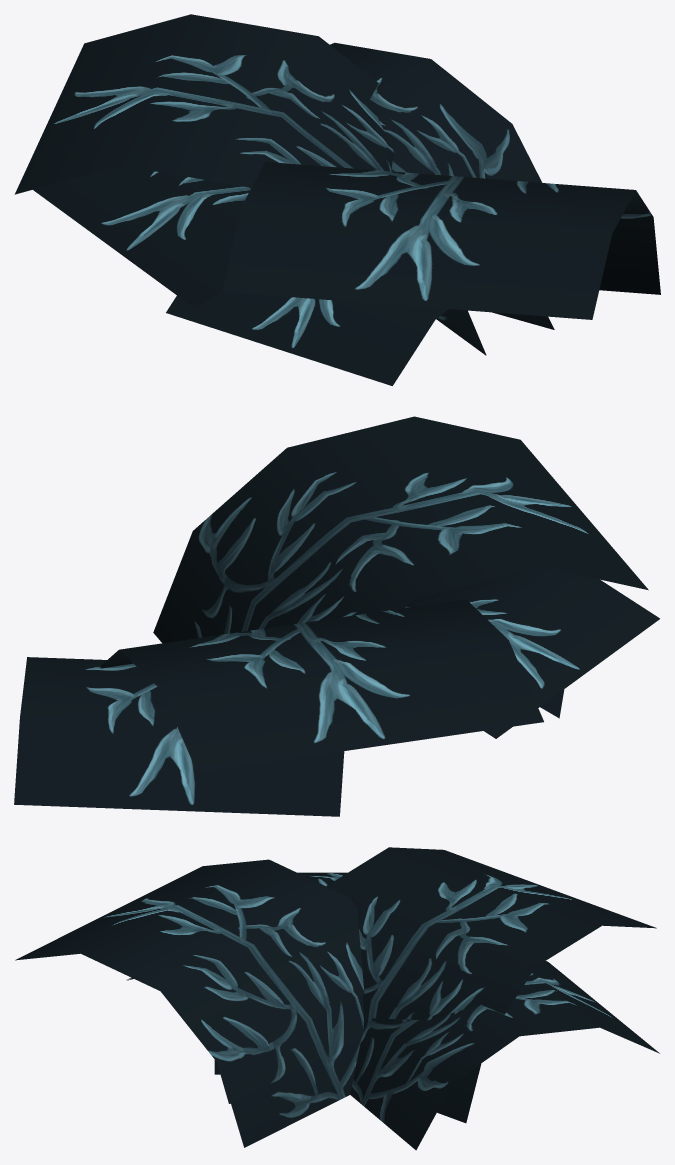
File: zugplant_01.fbx
3 views of the same model, one above another, from view 1: azimuth 30°, elevation 25°; view 2: azimuth 150°, elevation 25°; view 3: azimuth 270°, elevation 25° (orthographic). The views are drawn at different scales.
Visible parts, largest first — view 1: zug_plant_01; view 2: zug_plant_01; view 3: zug_plant_01.
Part boxes in pixels (box(x1,y1,x2,y2)): zug_plant_01: box(14, 14, 660, 385); zug_plant_01: box(14, 416, 659, 816); zug_plant_01: box(15, 847, 659, 1150).
Size of the model in its own units: 4.24 by 1.35 by 5.83.
